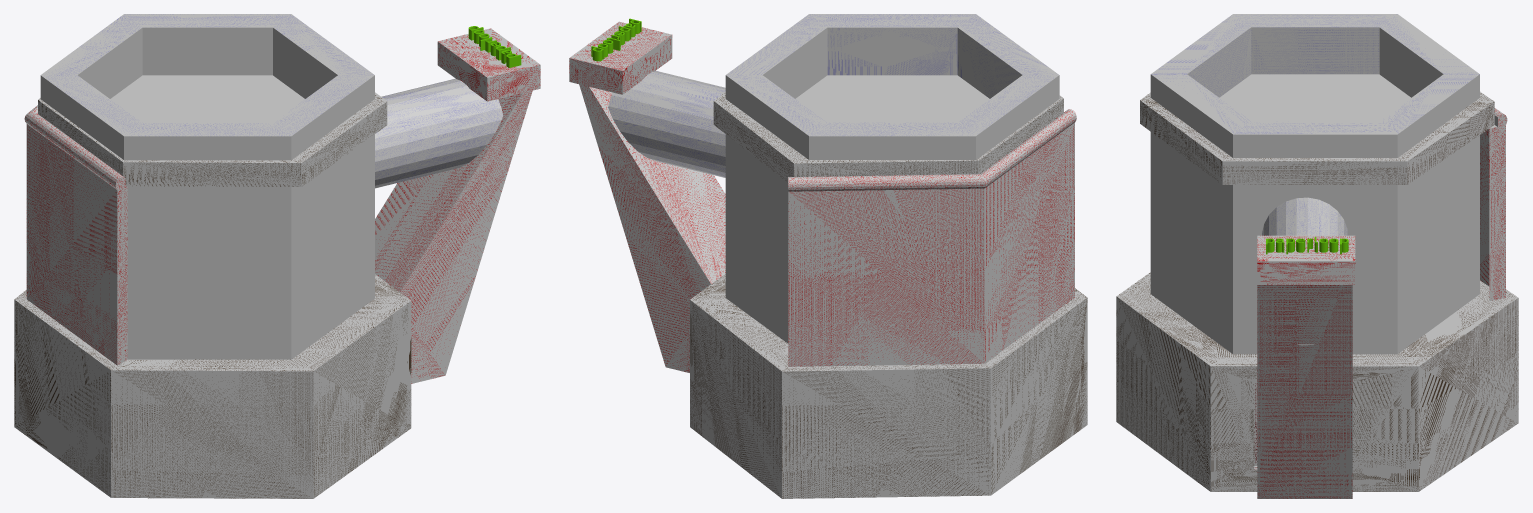
3 renders of one model, left to right at view 1: azimuth 30°, elevation 25°; view 2: azimuth 150°, elevation 25°; view 3: azimuth 270°, elevation 25°, orthographic.
Visible parts, largest first — view 1: mesh26_mesh26-geometry; view 2: mesh26_mesh26-geometry; view 3: mesh26_mesh26-geometry.
Part boxes in pixels (x1,y1,x2,y2): mesh26_mesh26-geometry: (14,14,540,498); mesh26_mesh26-geometry: (569,14,1087,498); mesh26_mesh26-geometry: (1116,14,1518,498).
Size of the model in its own units: 0.678 by 0.5058 by 0.5334.
